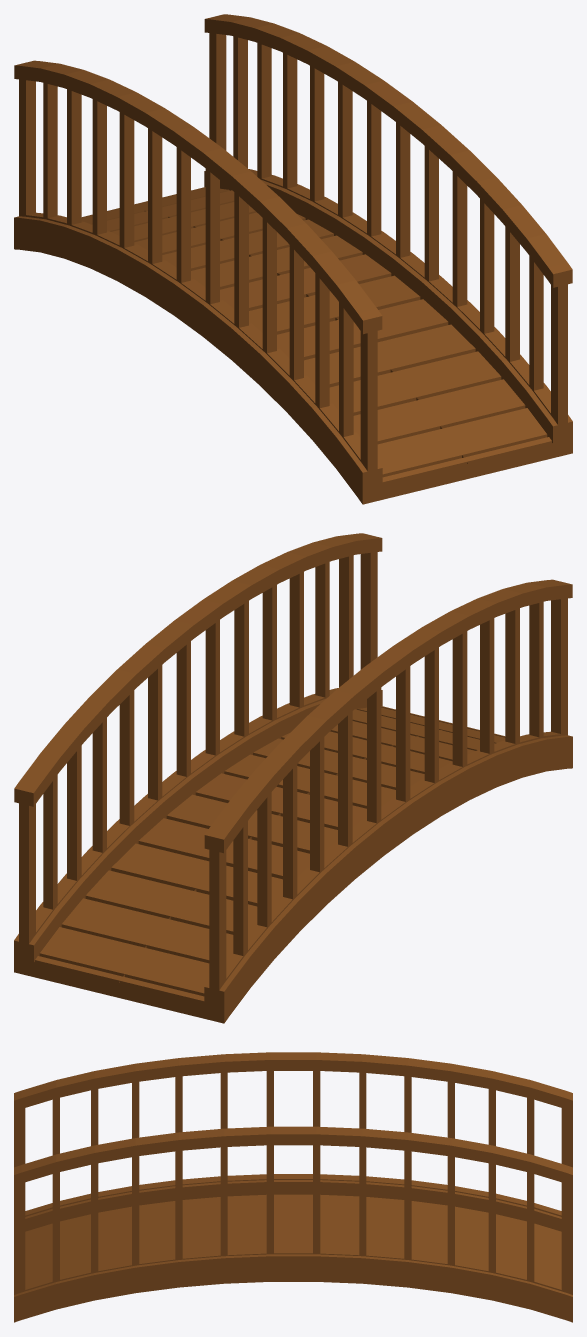
The model's file is PontModifierColor.fbx.
3 renders of one model, top to bottom at view 1: azimuth 30°, elevation 25°; view 2: azimuth 150°, elevation 25°; view 3: azimuth 270°, elevation 25°, orthographic. The views are drawn at different scales.
Parts seen in each view (by area): view 1: Cube.001; view 2: Cube.001; view 3: Cube.001.
Boxes of the visible parts, x1,y1,x2,y2 form: Cube.001: [14, 14, 572, 504]; Cube.001: [14, 533, 572, 1023]; Cube.001: [14, 1052, 572, 1322].
Bounding box in the file's own units: 259 × 276 × 743.
